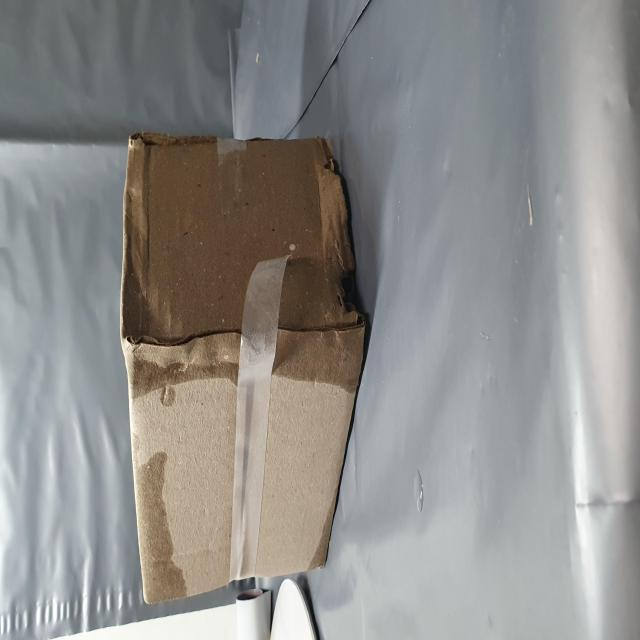wet: (140, 223, 284, 640), (22, 247, 106, 337)
